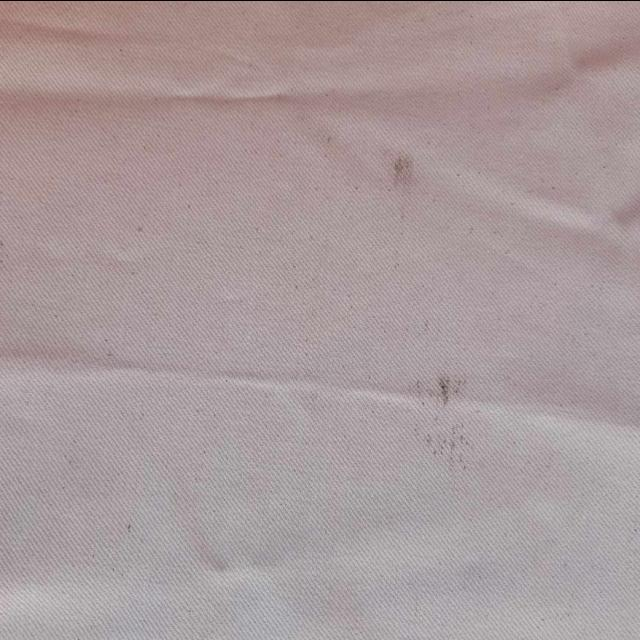taaaches: (408, 366, 488, 466), (375, 144, 429, 208)
